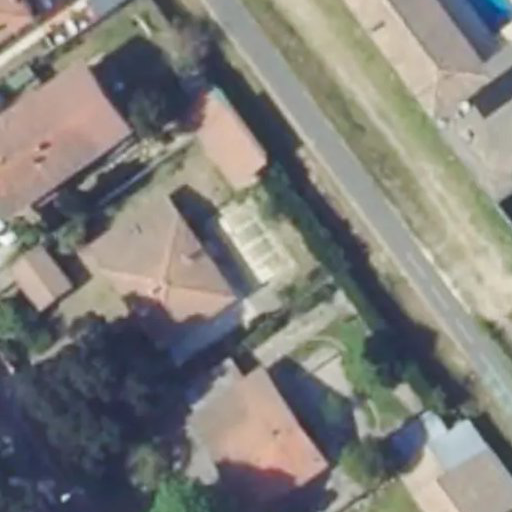pool: (209, 208, 289, 292), (457, 1, 512, 53)
